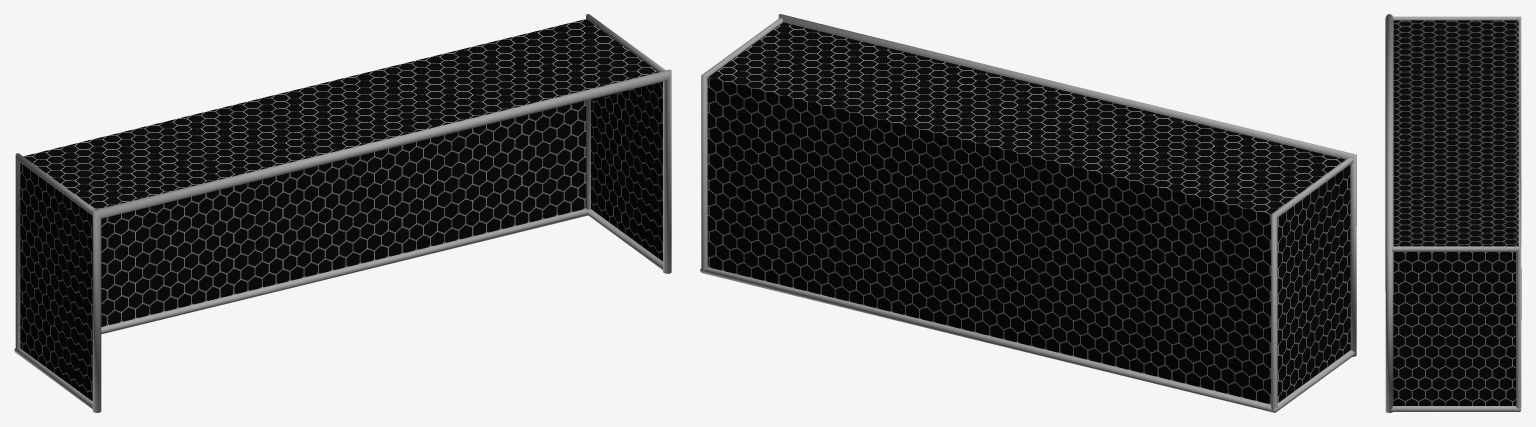
File: big-football-goal.obj
3 views of the same model, side by side, from view 1: azimuth 30°, elevation 25°; view 2: azimuth 150°, elevation 25°; view 3: azimuth 270°, elevation 25° (orthographic). The views are drawn at different scales.
Parts seen in each view (by area): view 1: net_Cylinder.001, bae_Cylinder; view 2: net_Cylinder.001, bae_Cylinder; view 3: net_Cylinder.001, bae_Cylinder.
Part boxes in pixels (x1,y1,x2,y2): net_Cylinder.001: (20, 19, 662, 400); bae_Cylinder: (14, 14, 671, 412); net_Cylinder.001: (707, 22, 1350, 404); bae_Cylinder: (700, 14, 1356, 412); net_Cylinder.001: (1393, 20, 1518, 405); bae_Cylinder: (1385, 14, 1521, 412).
Size of the model in its own units: 732 by 244 by 181.
2 materials, 1 textured.
